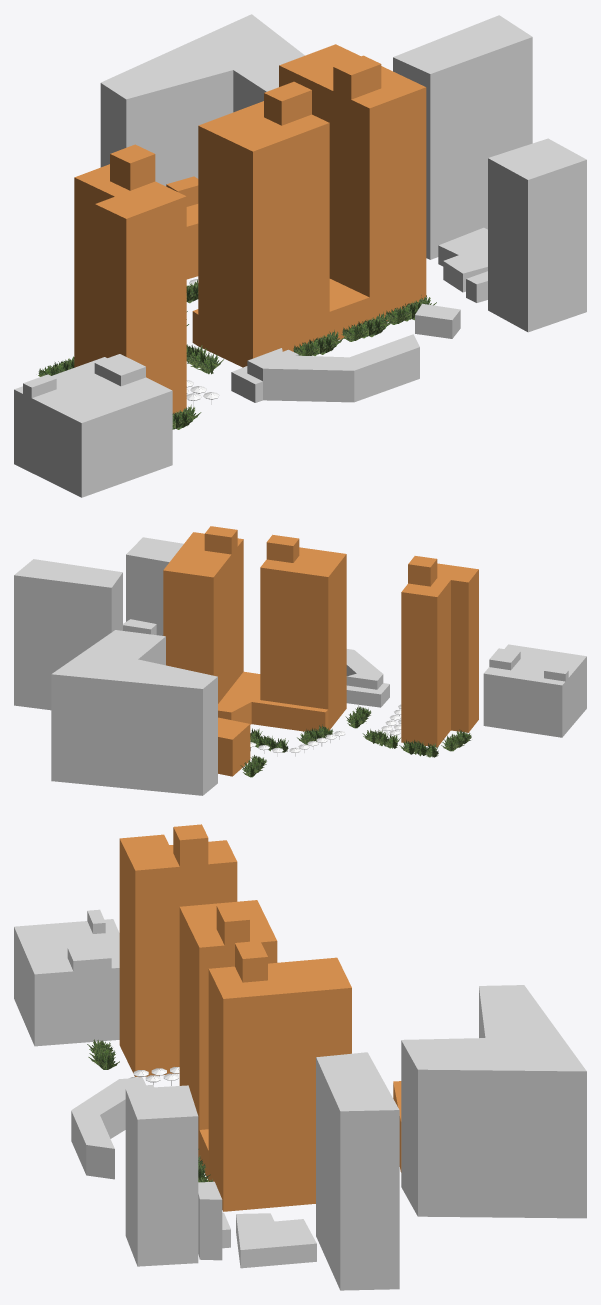
File: sample_outdoor analysis.fbx
The picture shows the model from 3 angles, top to bottom: view 1: azimuth 30°, elevation 25°; view 2: azimuth 150°, elevation 25°; view 3: azimuth 270°, elevation 25°; orthographic projection. The views are drawn at different scales.
Parts seen in each view (by area): view 1: MeshChunk (×12); view 2: MeshChunk (×11); view 3: MeshChunk (×10).
Part boxes in pixels (left/top/right/bottom): MeshChunk (×12): left=14, top=14, right=586, bottom=497; MeshChunk (×11): left=14, top=526, right=586, bottom=795; MeshChunk (×10): left=14, top=824, right=586, bottom=1290.
Size of the model in its own units: 717 by 580 by 264.
3 materials, 1 textured.
